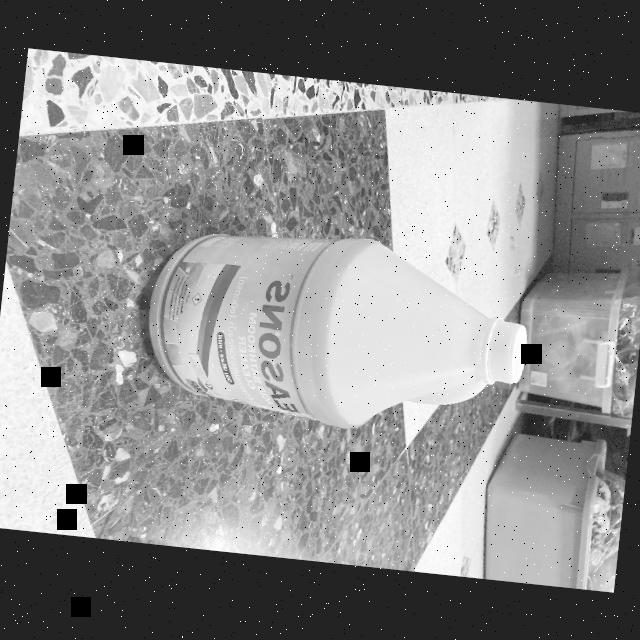chemical_plastic_gallon: (135, 217, 538, 442)
